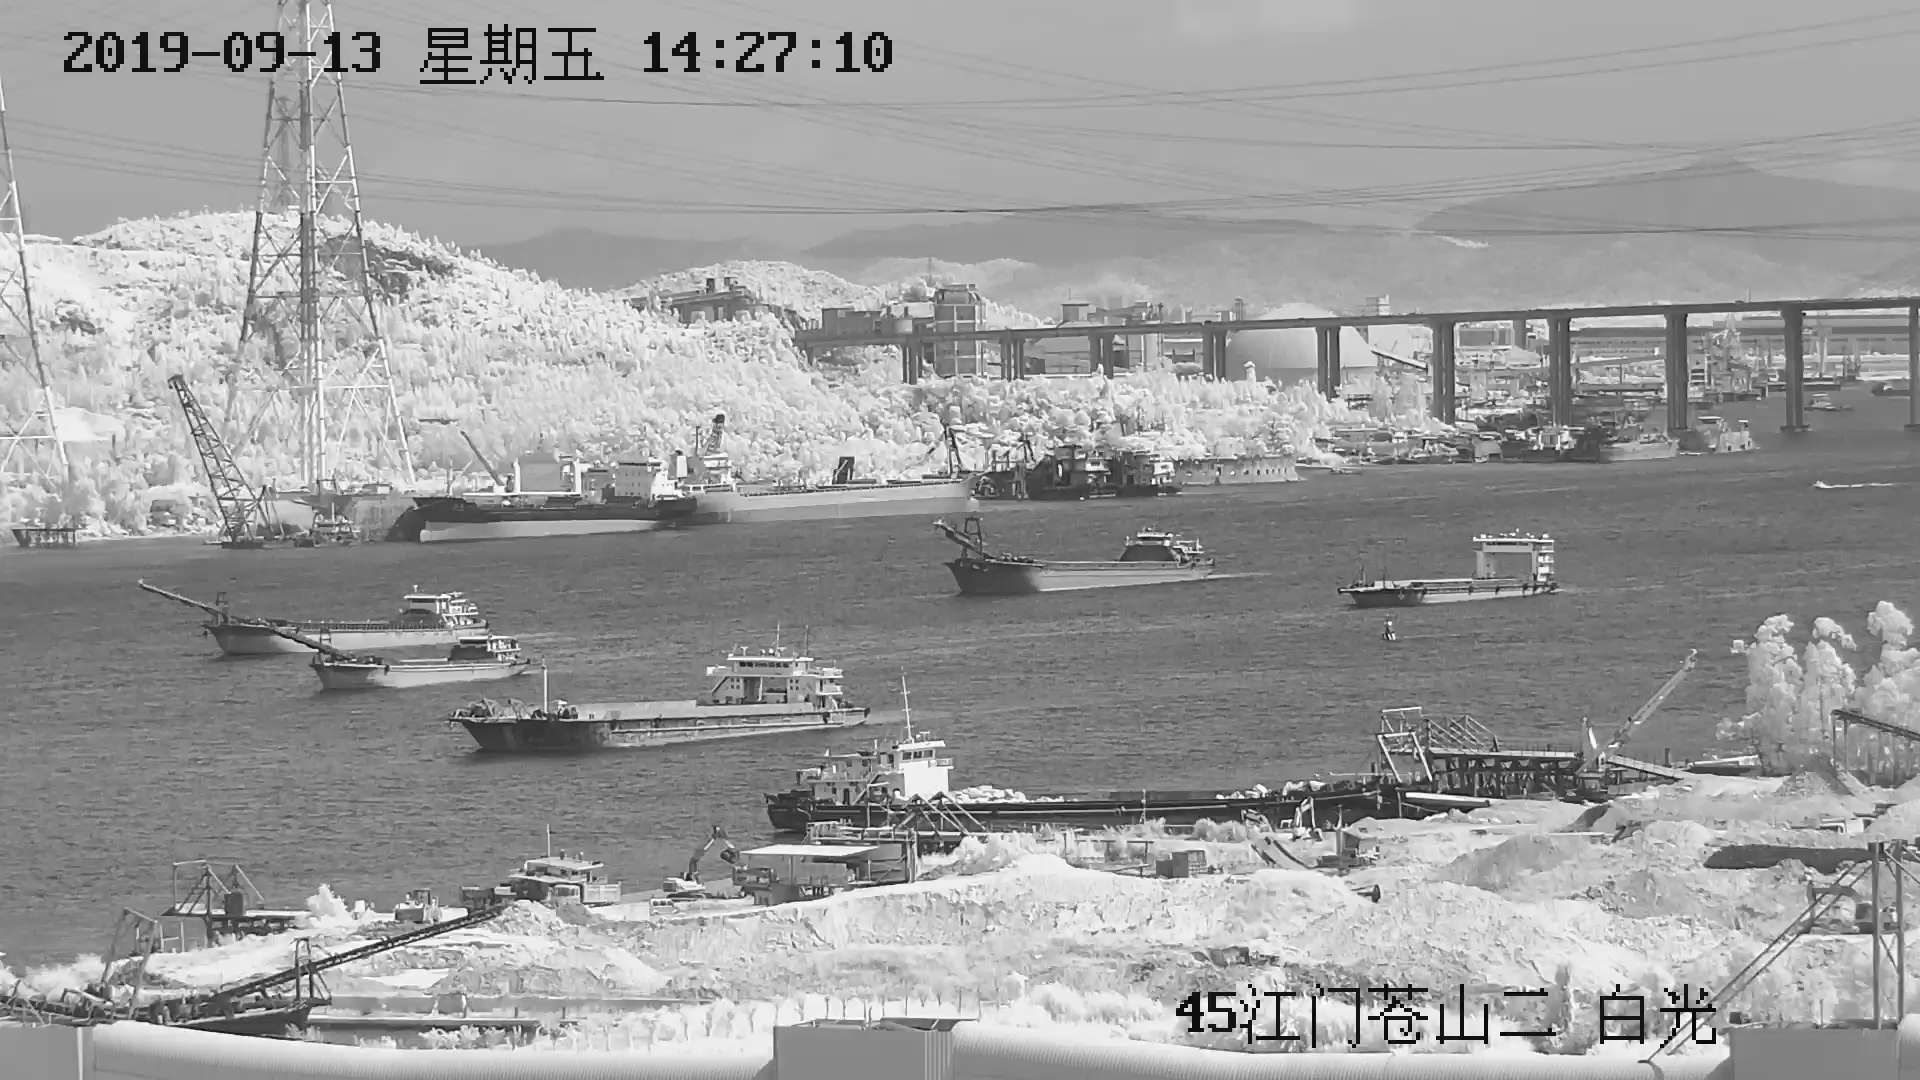ship: (450, 621, 872, 760), (944, 502, 1228, 601), (189, 574, 498, 661), (1340, 533, 1553, 607), (301, 630, 535, 690)
